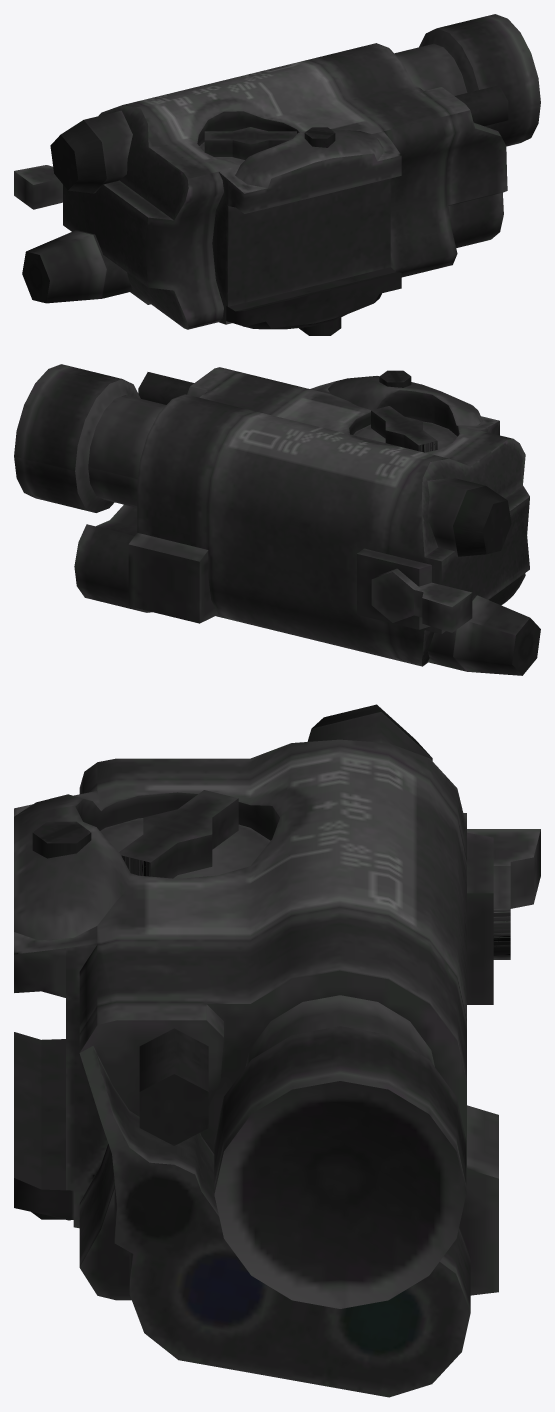
Rendered from t6_attach_wlp_world_LOD0.obj.
3 renders of one model, top to bottom at view 1: azimuth 30°, elevation 25°; view 2: azimuth 150°, elevation 25°; view 3: azimuth 270°, elevation 25°, orthographic. The views are drawn at different scales.
Parts seen in each view (by area): view 1: mtl_t6_attach_wlp; view 2: mtl_t6_attach_wlp; view 3: mtl_t6_attach_wlp.
Part boxes in pixels (x1,y1,x2,y2): mtl_t6_attach_wlp: (14, 14, 540, 335); mtl_t6_attach_wlp: (14, 364, 540, 675); mtl_t6_attach_wlp: (14, 704, 540, 1397).
Size of the model in its own units: 11.71 by 4.86 by 6.02.
